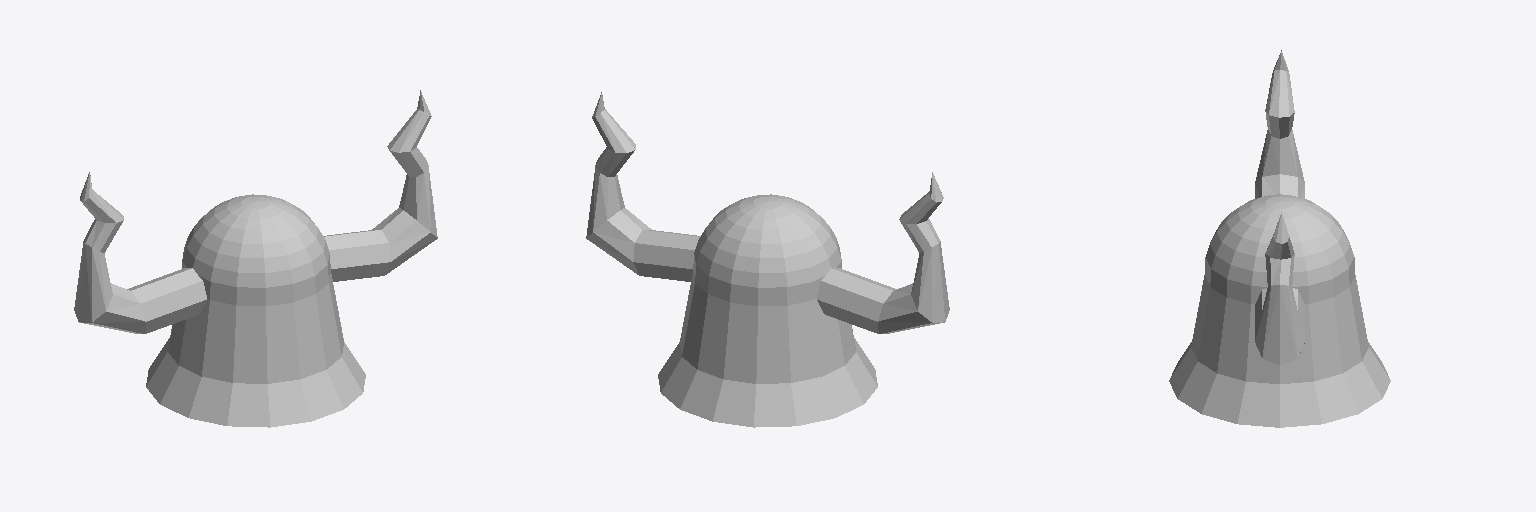
The model's file is Head.obj.
The picture shows the model from 3 angles: view 1: azimuth 30°, elevation 25°; view 2: azimuth 150°, elevation 25°; view 3: azimuth 270°, elevation 25°; orthographic projection.
Parts seen in each view (by area): view 1: Head; view 2: Head; view 3: Head.
Boxes of the visible parts, x1,y1,x2,y2 form: Head: [74, 90, 437, 427]; Head: [586, 92, 949, 427]; Head: [1169, 50, 1390, 427].
Size of the model in its own units: 1.17 by 0.7912 by 0.637.